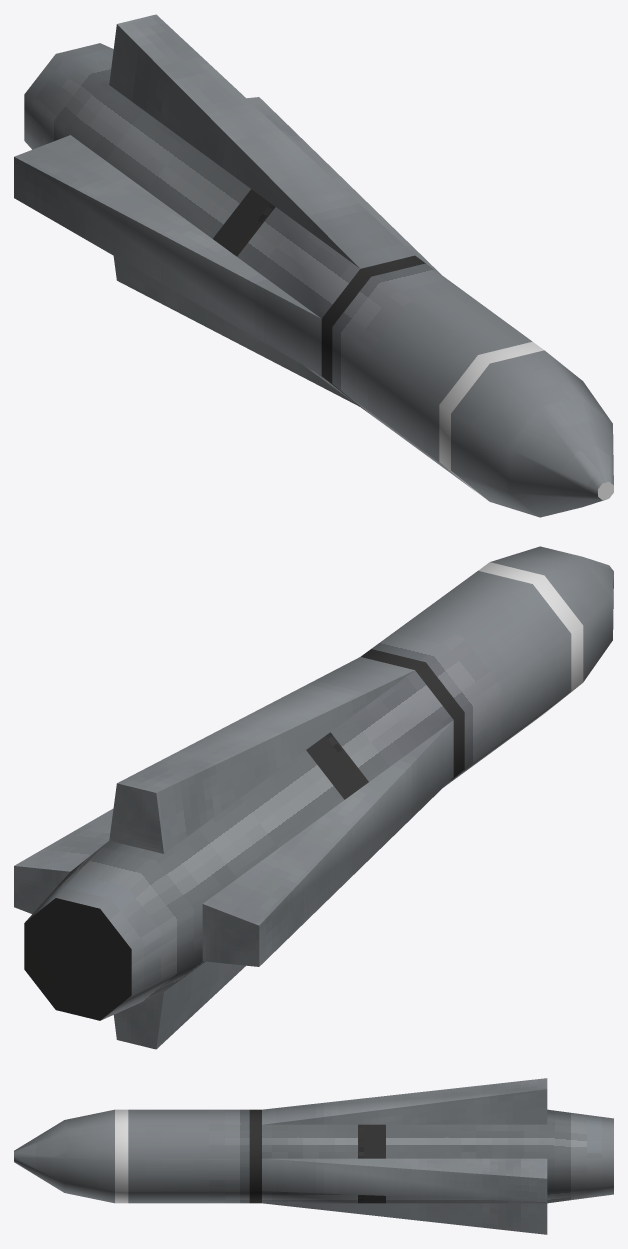
The model's file is missle2.FBX.
The picture shows the model from 3 angles, top to bottom: view 1: azimuth 30°, elevation 25°; view 2: azimuth 150°, elevation 25°; view 3: azimuth 270°, elevation 25°; orthographic projection. The views are drawn at different scales.
Parts seen in each view (by area): view 1: Cylinder005; view 2: Cylinder005; view 3: Cylinder005.
Boxes of the visible parts, left/top/right/bottom form: Cylinder005: left=14, top=14, right=613, bottom=517; Cylinder005: left=14, top=546, right=613, bottom=1049; Cylinder005: left=14, top=1078, right=613, bottom=1234.
Size of the model in its own units: 10.42 by 10.42 by 38.86.
1 material, 1 textured.
